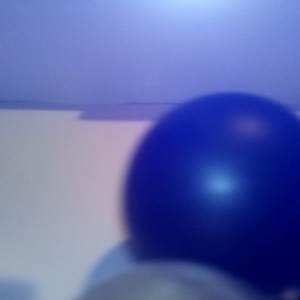alive_ball: (77, 261, 258, 300)
dead_ball: (124, 93, 300, 300)
